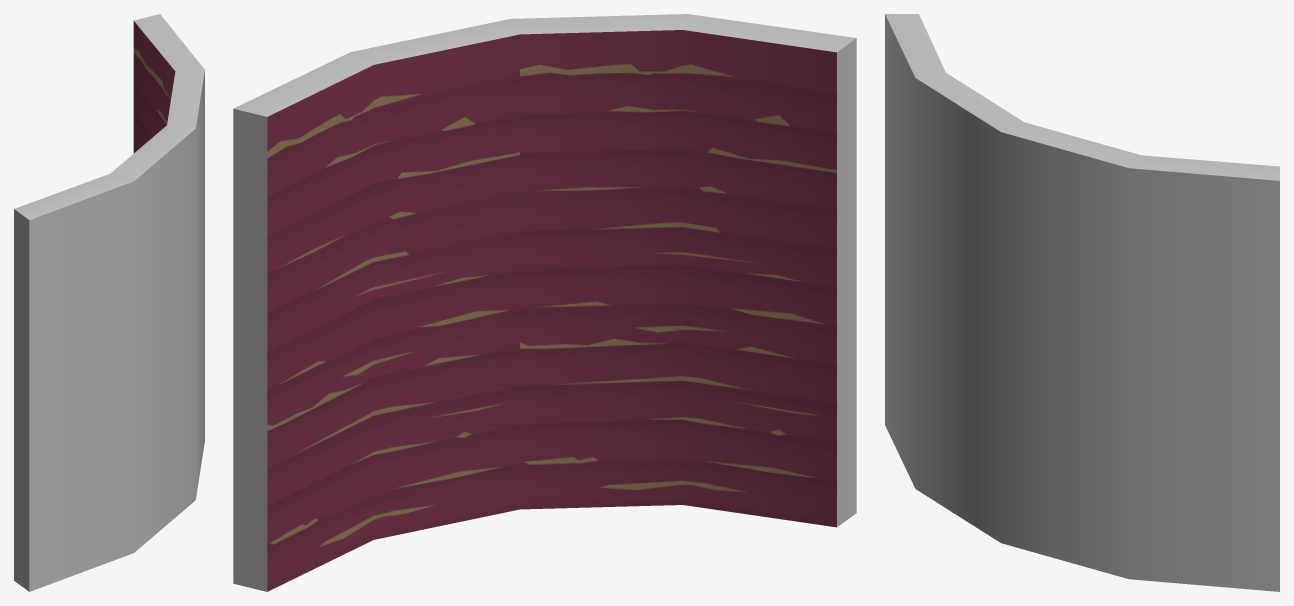
The model's file is SM_Bld_Wall_Curved_M_01_Collision.fbx.
3 renders of one model, left to right at view 1: azimuth 30°, elevation 25°; view 2: azimuth 150°, elevation 25°; view 3: azimuth 270°, elevation 25°, orthographic. The views are drawn at different scales.
Visible parts, largest first — view 1: SM_Bld_Wall_Curved_M_01_Collision; view 2: SM_Bld_Wall_Curved_M_01_Collision; view 3: SM_Bld_Wall_Curved_M_01_Collision.
Part boxes in pixels (x1,y1,x2,y2): SM_Bld_Wall_Curved_M_01_Collision: (14, 14, 204, 591); SM_Bld_Wall_Curved_M_01_Collision: (233, 14, 856, 591); SM_Bld_Wall_Curved_M_01_Collision: (885, 14, 1279, 591).
Size of the model in its own units: 261 by 300 by 261.
